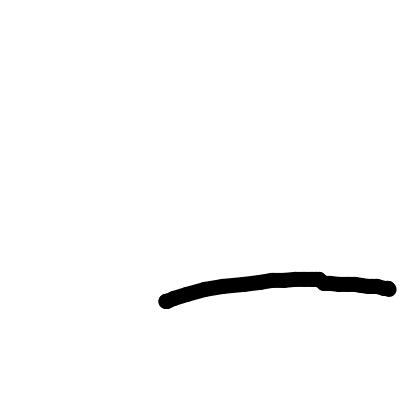minus: (158, 271, 397, 310)
